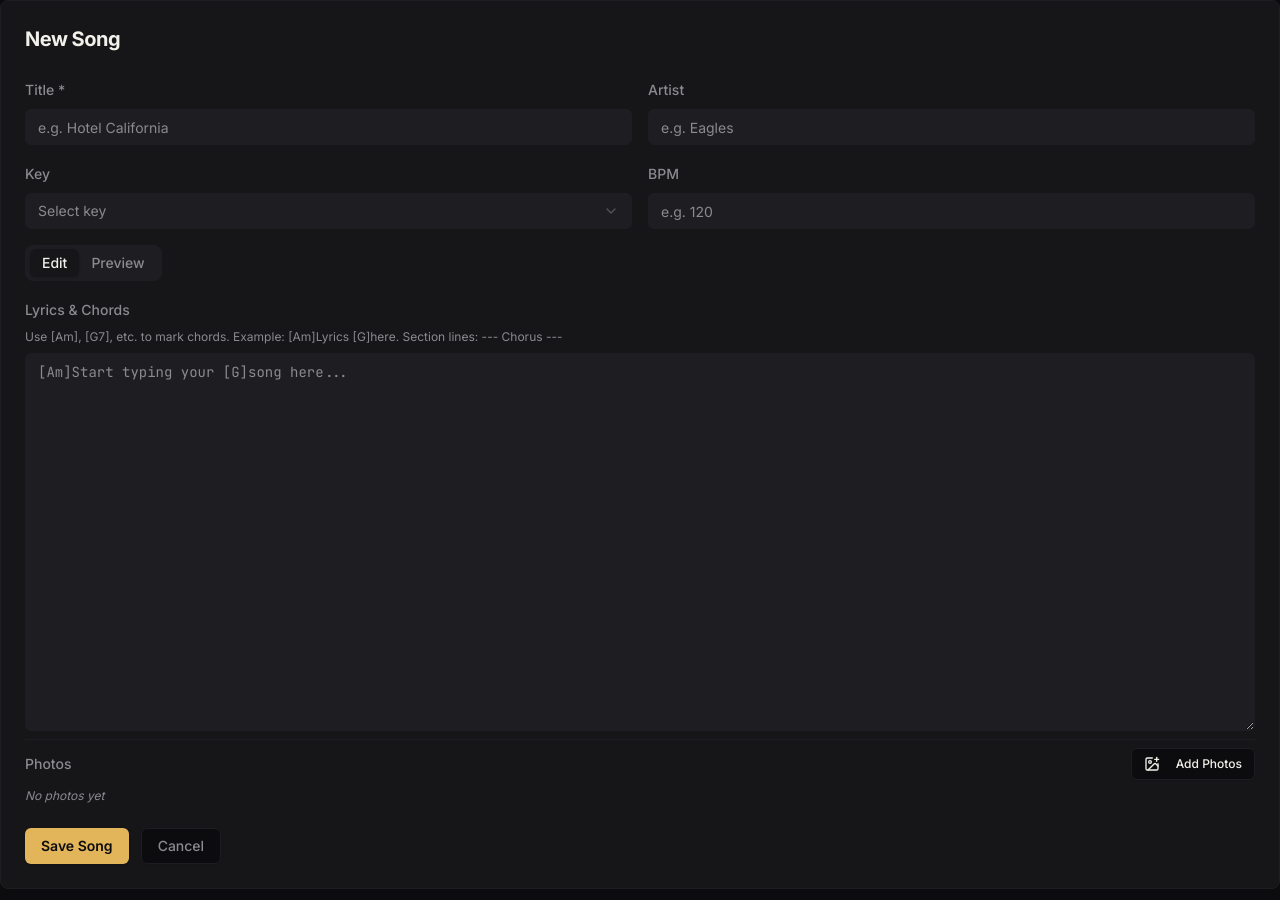
Scenario: SongEditor › shows error when title is empty on save
Click the button "Save Song" at (77,846), box [25, 828, 129, 864]
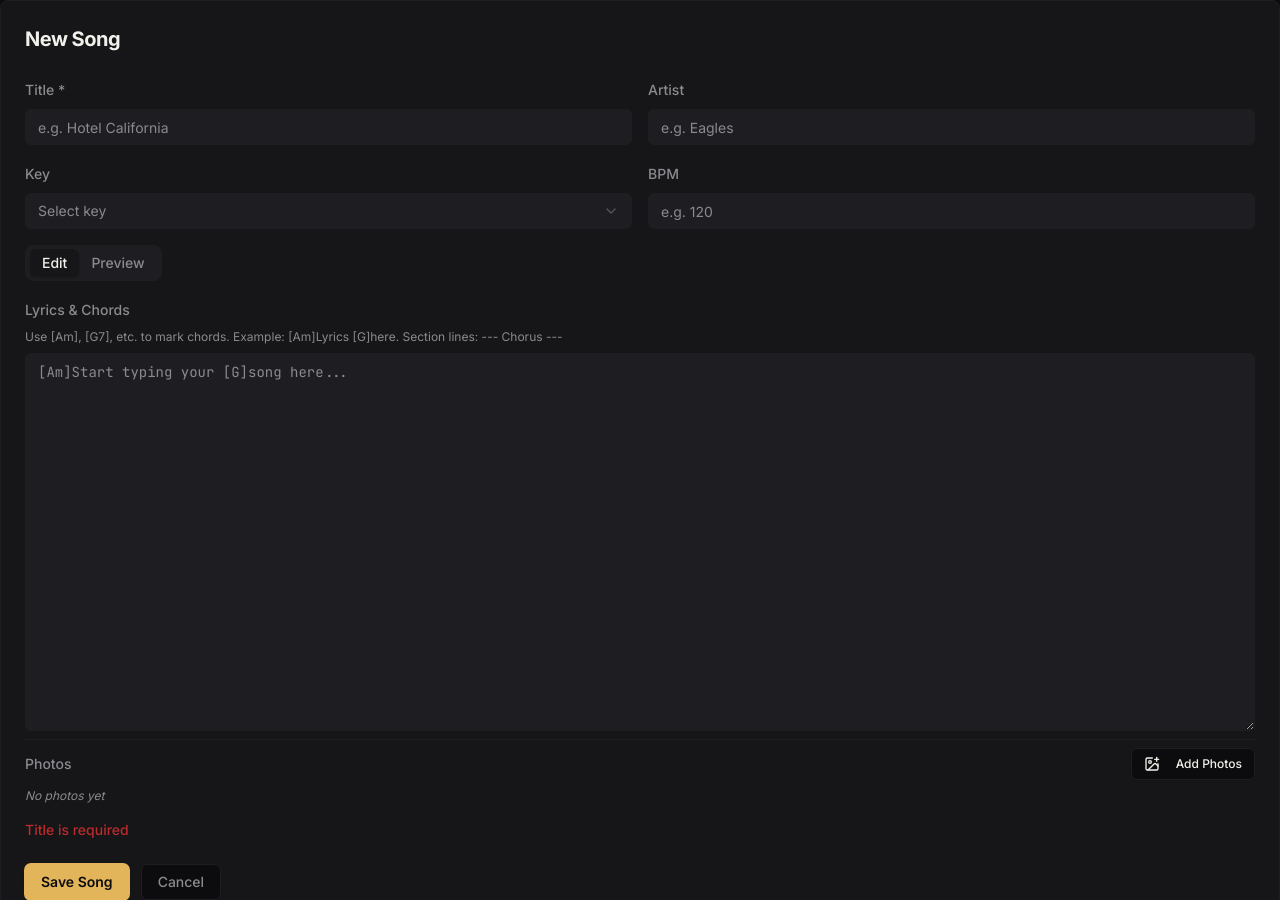
Expected: the text "Title is required" is shown, [25, 821, 129, 838]
